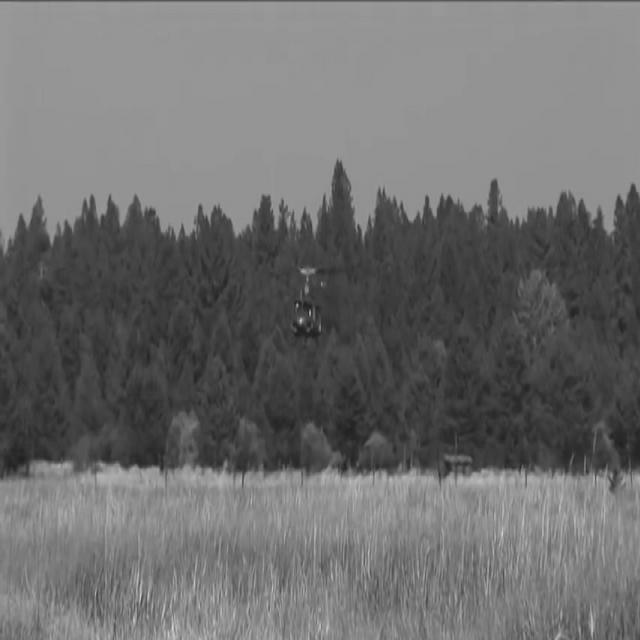helikopter: (258, 238, 362, 364)
